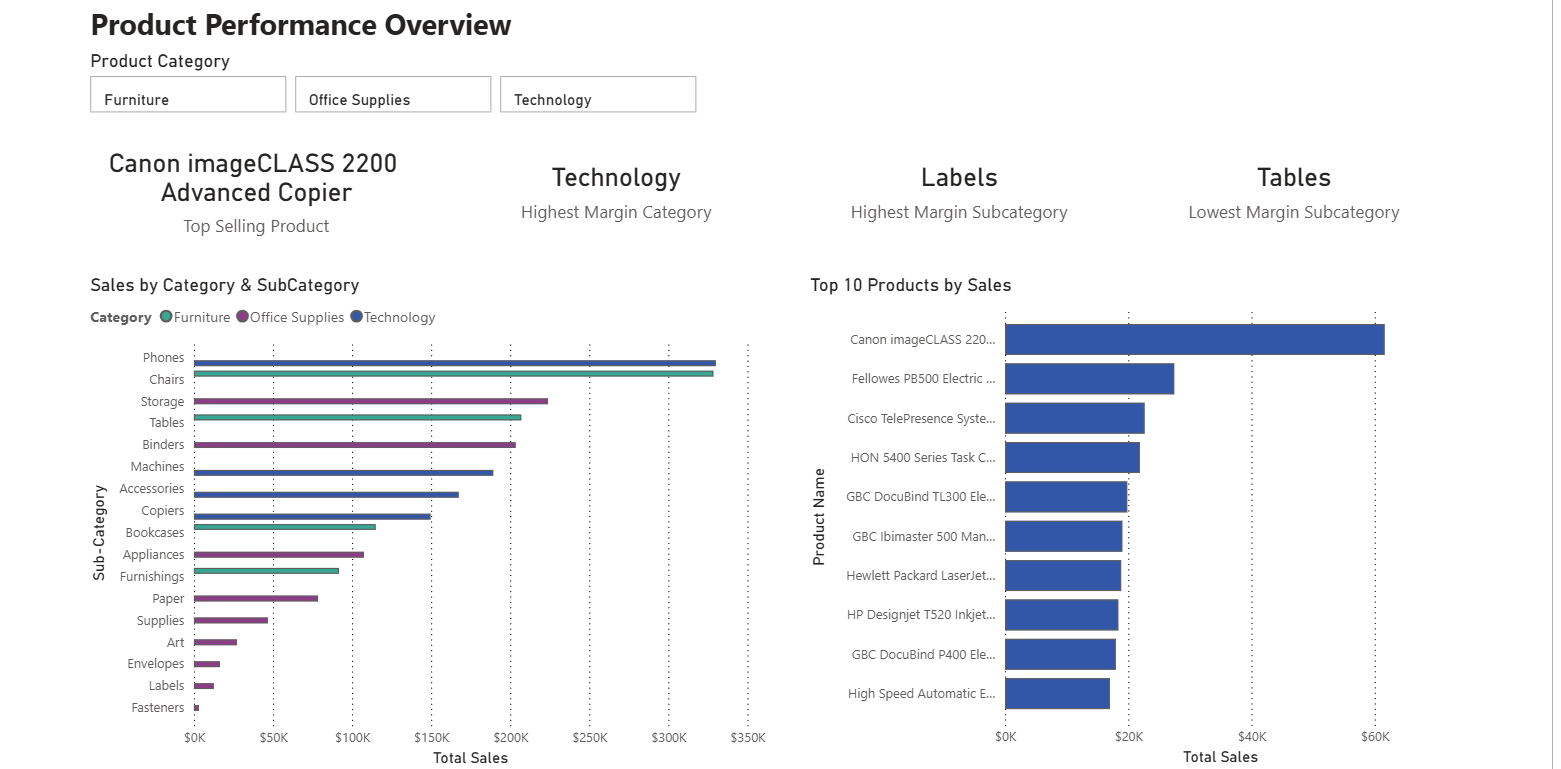

This screenshot's page, from the dashboard's own definition file:
{"tool":"powerbi","page":{"name":"Product Performance Overview","canvas":[1280,720],"ordinal":1},"visuals":[{"type":"textbox","box":[0,0,416,48],"z":0},{"type":"advancedSlicerVisual","title":"Product Category","fields":{"Values":["DimProduct.Category"]},"box":[0,48,576,64],"z":1000},{"type":"clusteredBarChart","title":"Sales by Category & SubCategory","fields":{"Series":["DimProduct.Category"],"Category":["DimProduct.Sub-Category"],"Y":["MeasureALL.Total Sales"]},"box":[0,256,640,464],"z":2000},{"type":"clusteredBarChart","title":"Top 10 Products by Sales","fields":{"Category":["DimProduct.Product Name"],"Y":["MeasureALL.Total Sales"]},"box":[672,256,608,464],"z":3000},{"type":"card","fields":{"Values":["MeasureALL.Top Selling Product"]},"box":[0,112,320,128],"z":4000},{"type":"card","fields":{"Values":["MeasureALL.Highest Margin Category"]},"box":[336,112,320,128],"z":5000},{"type":"card","fields":{"Values":["MeasureALL.Lowest Margin Subcategory"]},"box":[976,112,304,128],"z":6000},{"type":"card","fields":{"Values":["MeasureALL.Highest Margin Subcategory"]},"box":[672,112,288,128],"z":7000}]}

Visuals, with their boxes on the page's 1280x720 design canvas (x1, y1, x2, y2). These are canvas units, not pixel positions in the 1561x769 screenshot, which may show the page scaled, cropped or inside an application window:
textbox: [left=0, top=0, right=416, bottom=48]
"Product Category" advancedSlicerVisual: [left=0, top=48, right=576, bottom=112]
"Sales by Category & SubCategory" clusteredBarChart: [left=0, top=256, right=640, bottom=720]
"Top 10 Products by Sales" clusteredBarChart: [left=672, top=256, right=1280, bottom=720]
card - MeasureALL.Top Selling Product: [left=0, top=112, right=320, bottom=240]
card - MeasureALL.Highest Margin Category: [left=336, top=112, right=656, bottom=240]
card - MeasureALL.Lowest Margin Subcategory: [left=976, top=112, right=1280, bottom=240]
card - MeasureALL.Highest Margin Subcategory: [left=672, top=112, right=960, bottom=240]
